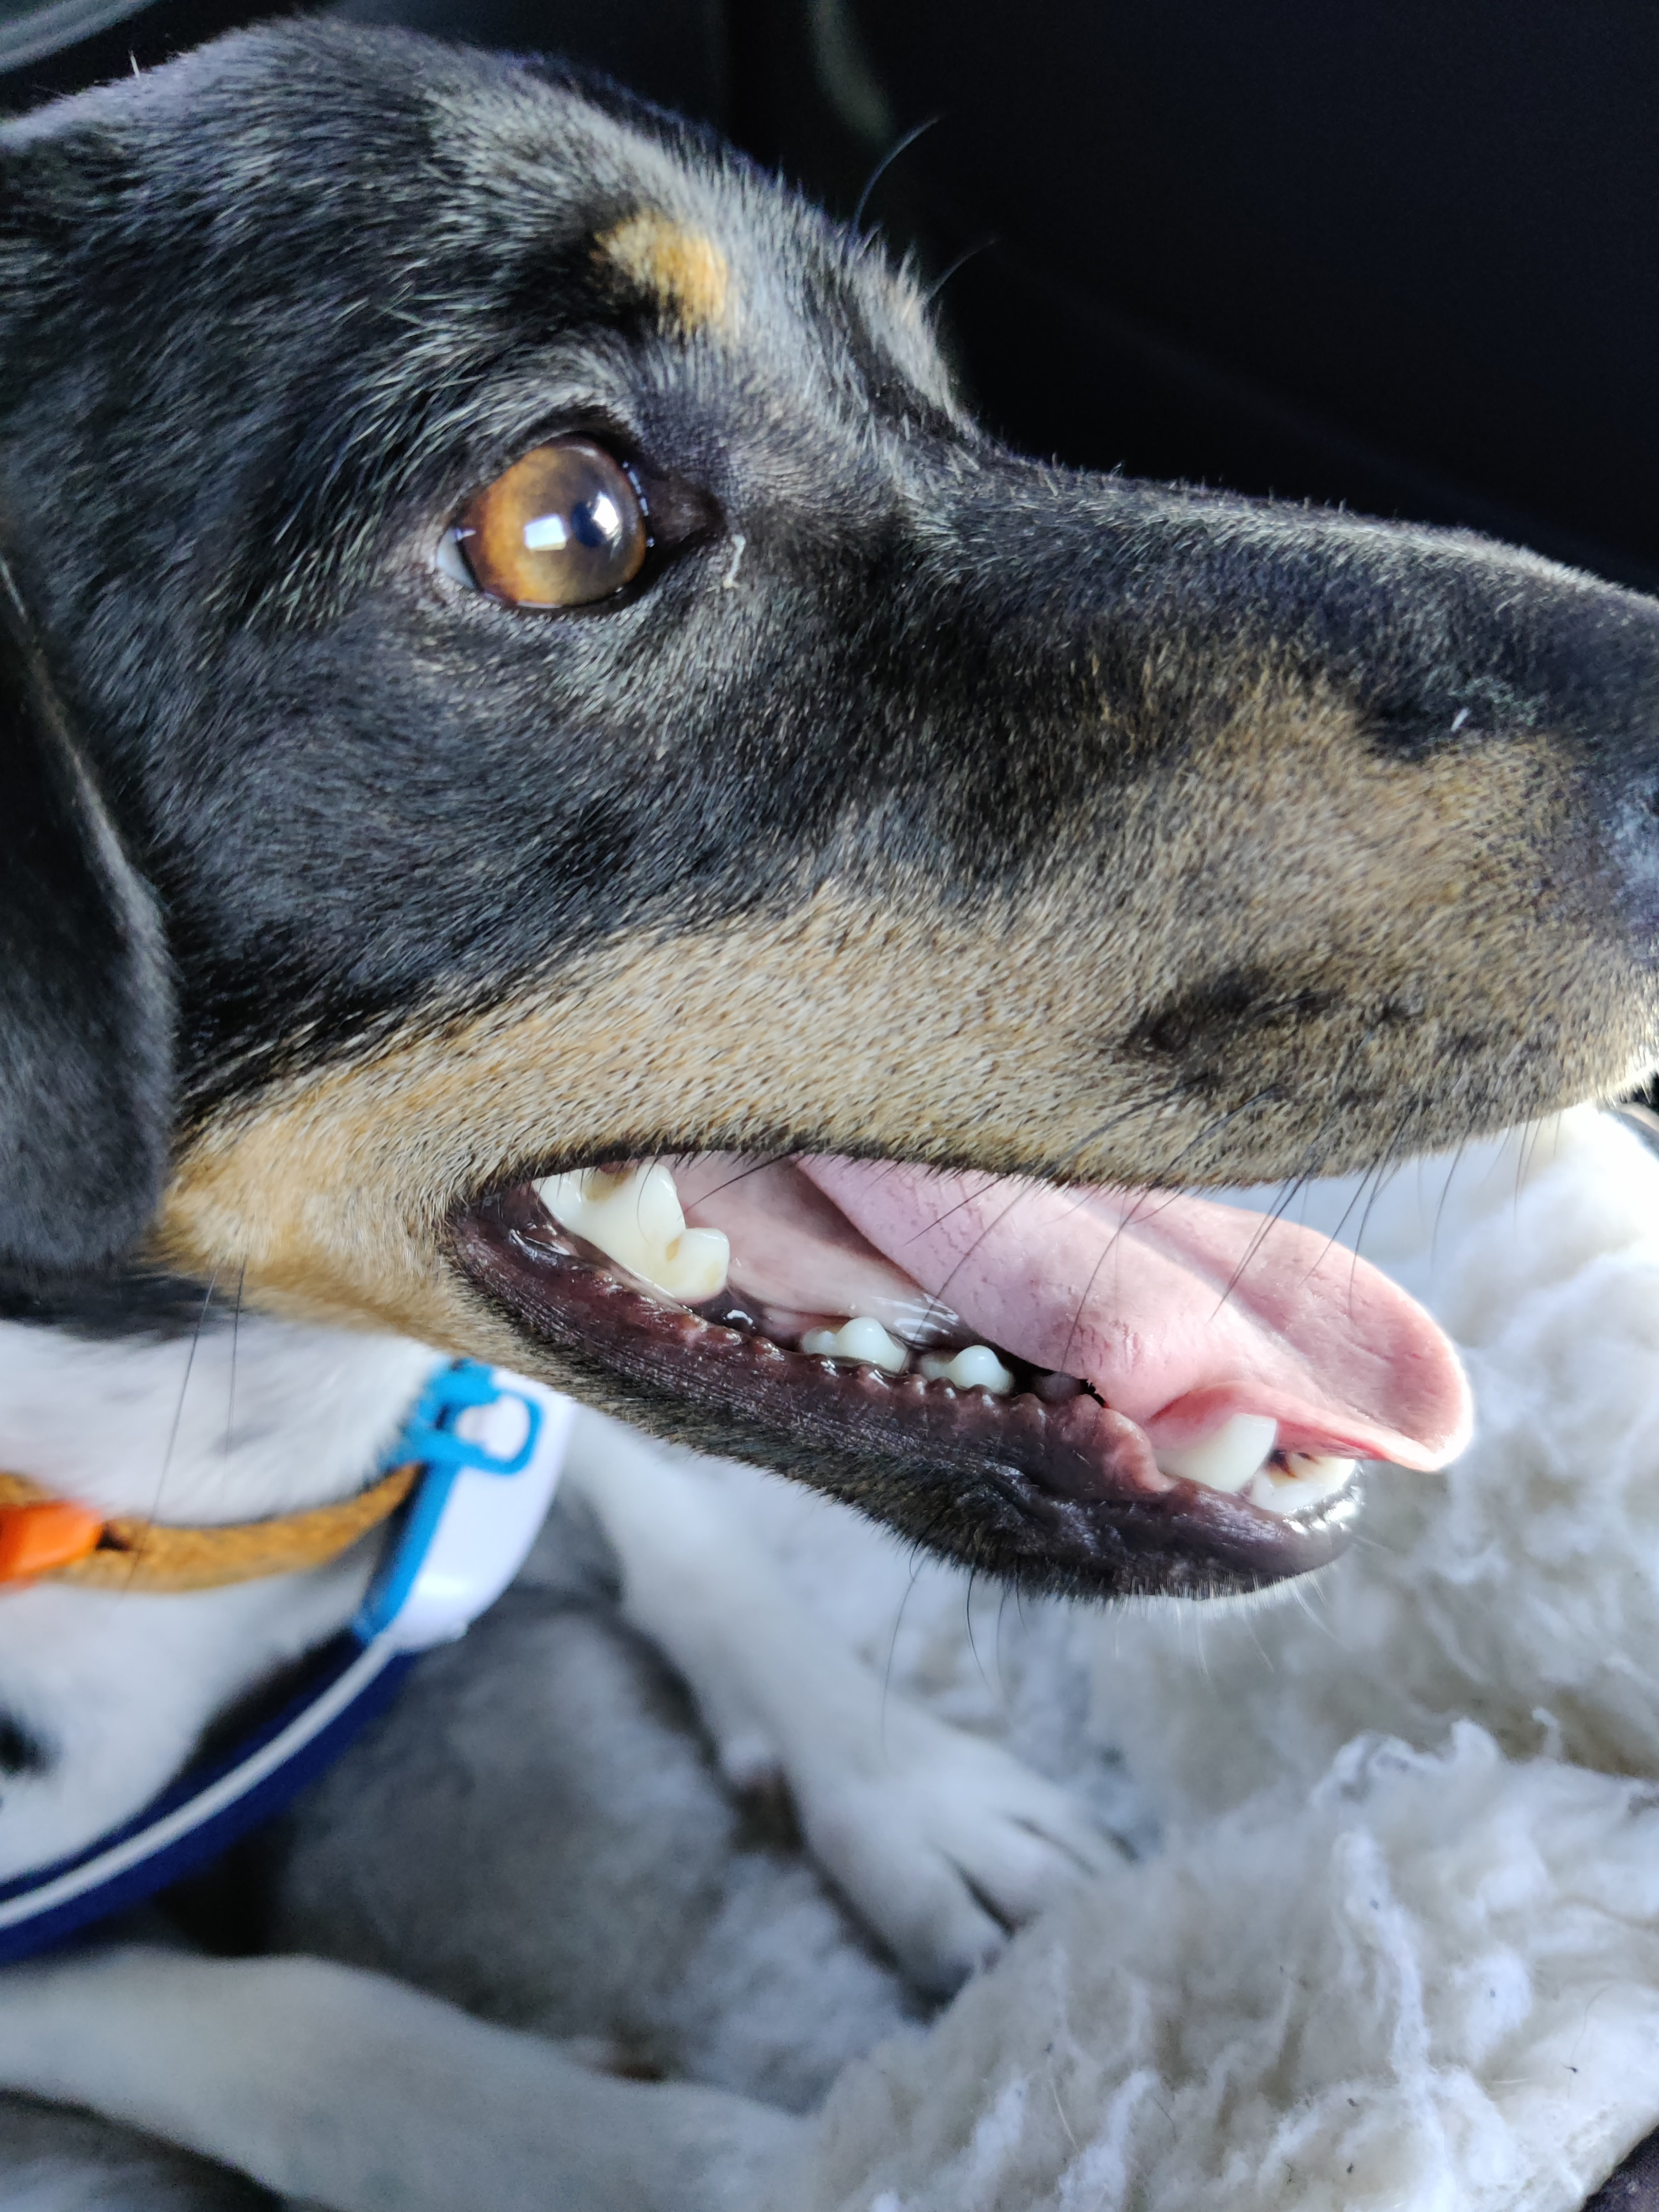Dog: (0, 10, 1659, 2212)
